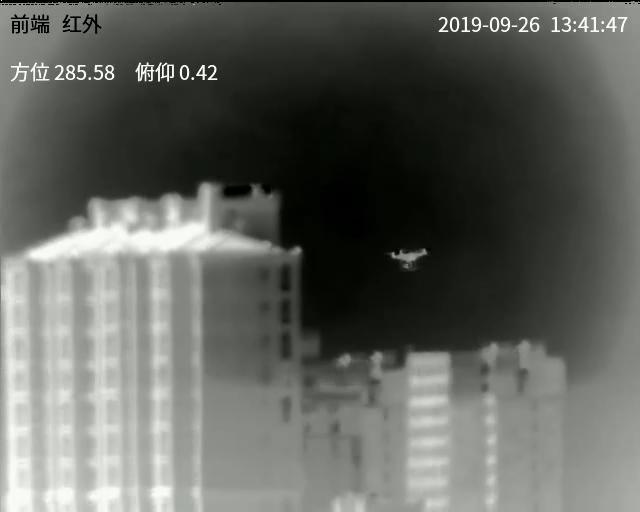uav: (390, 241, 431, 273)
